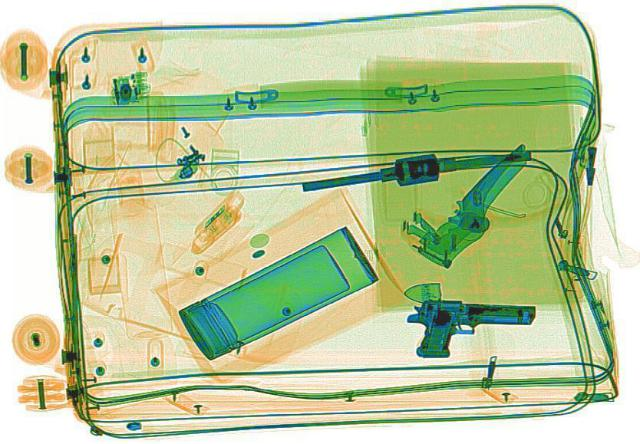Gun: (400, 295, 536, 360)
